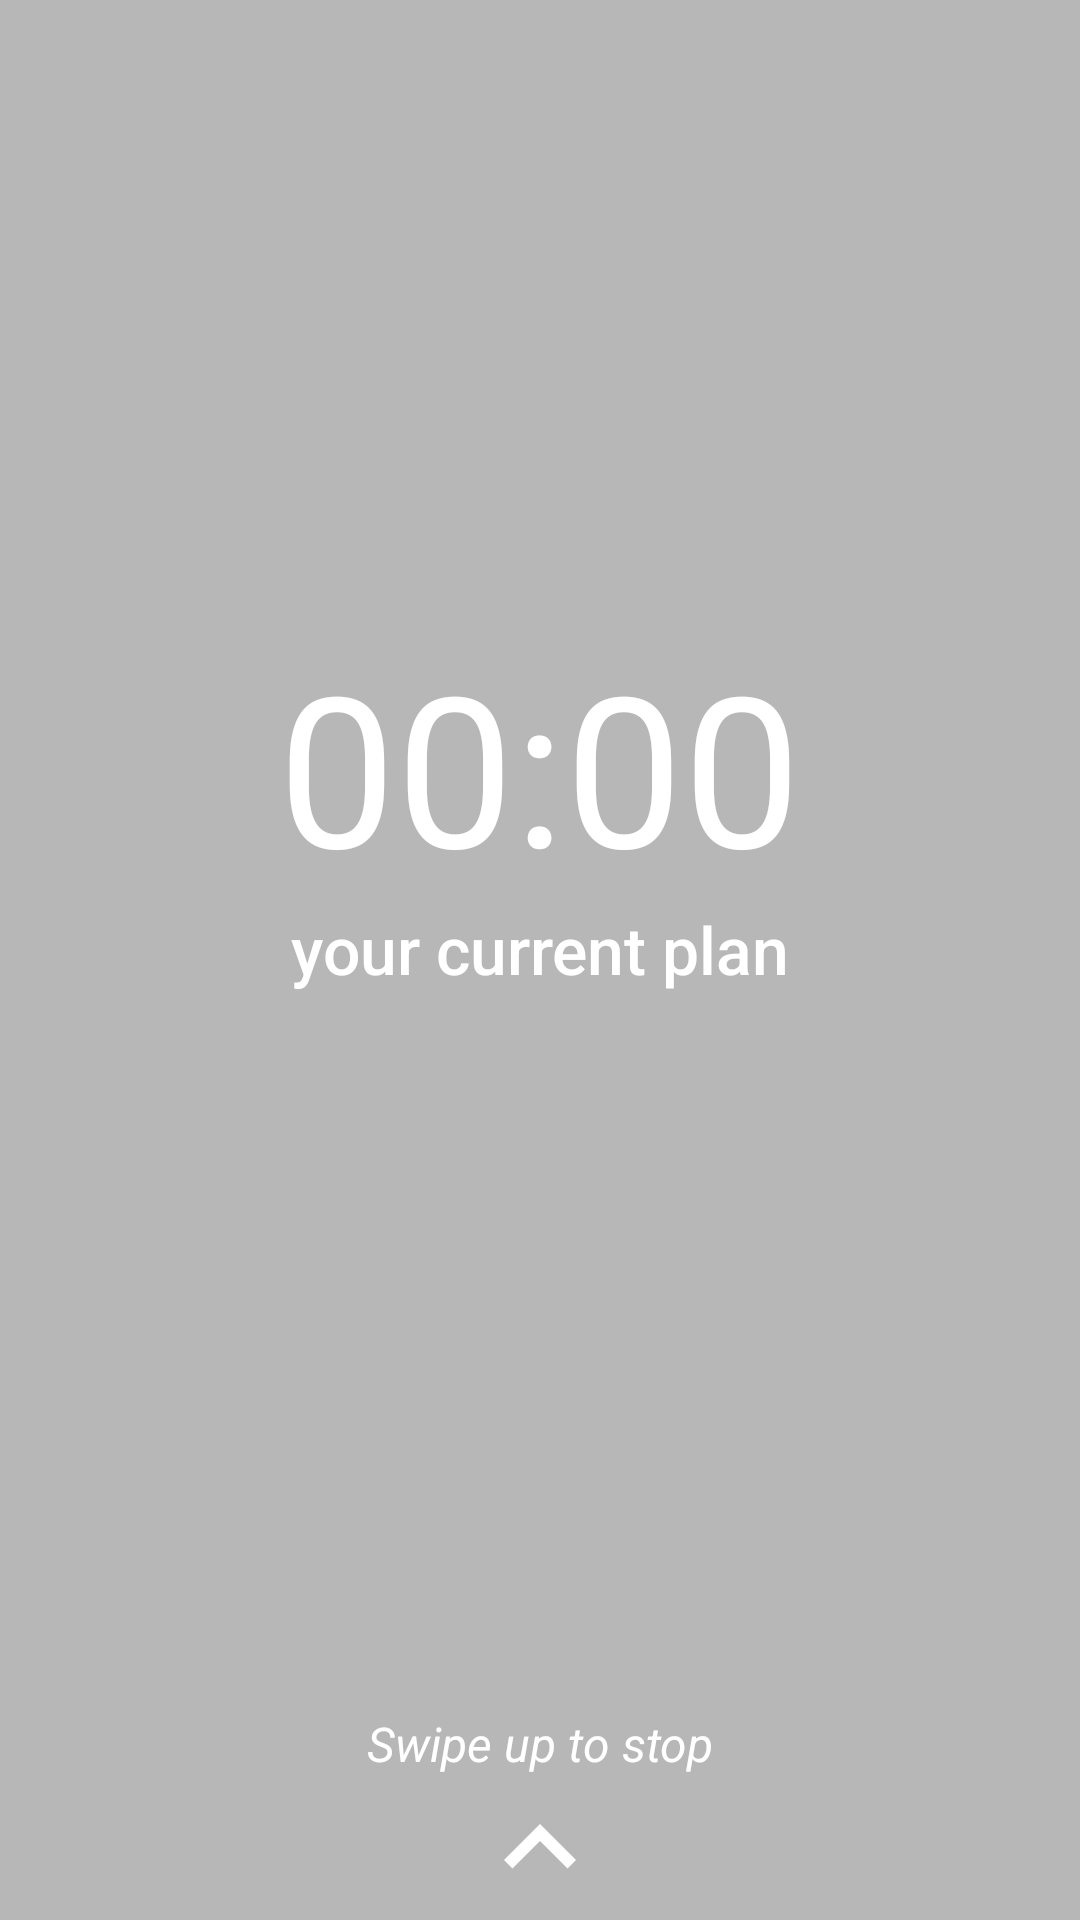

Named icons in this screenshot (1080×1920) and their bounding boxes, region(x1, y1, x2, y2):
arrow up: region(504, 1824, 576, 1868)
